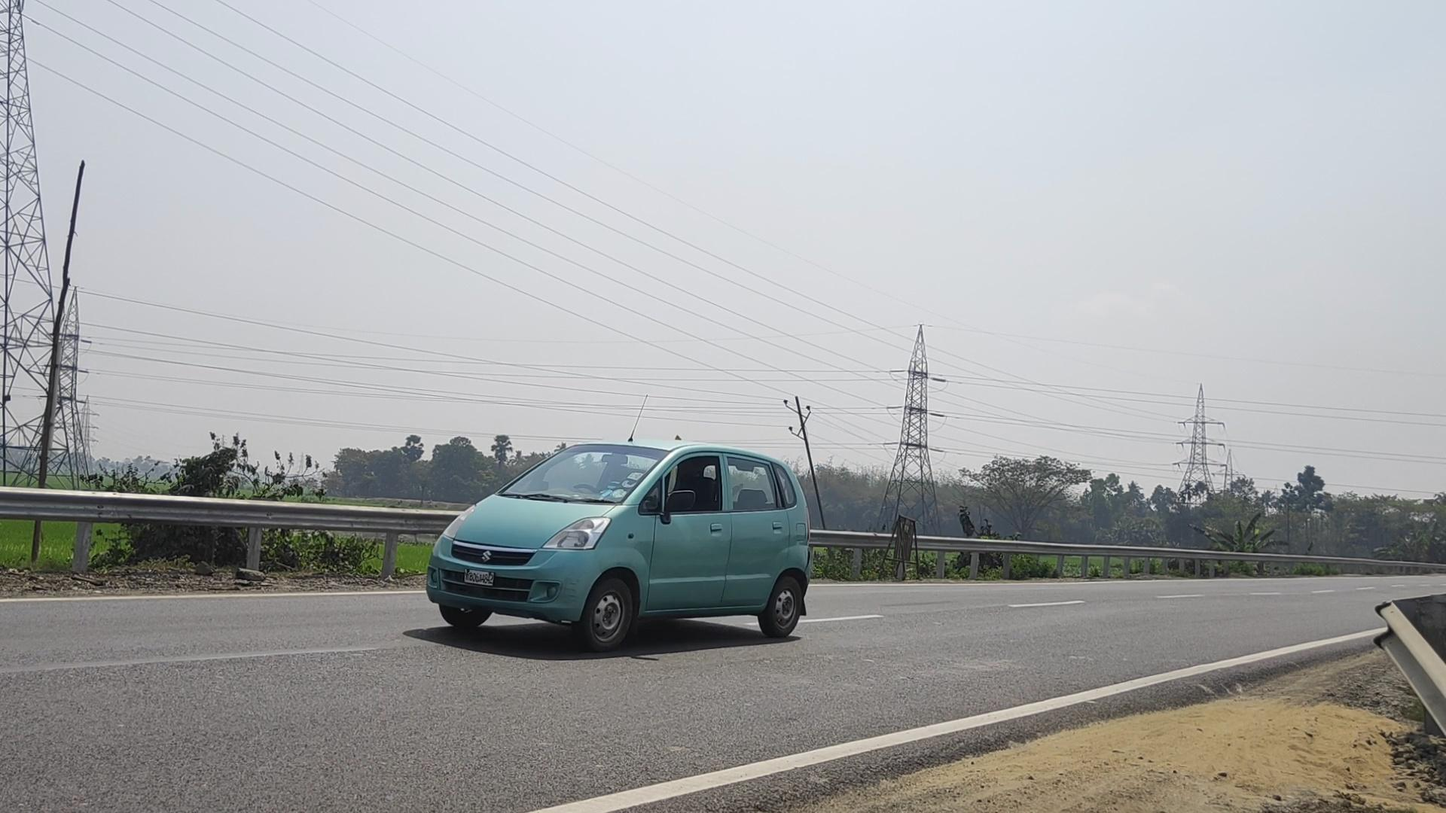car: (426, 438, 810, 653)
